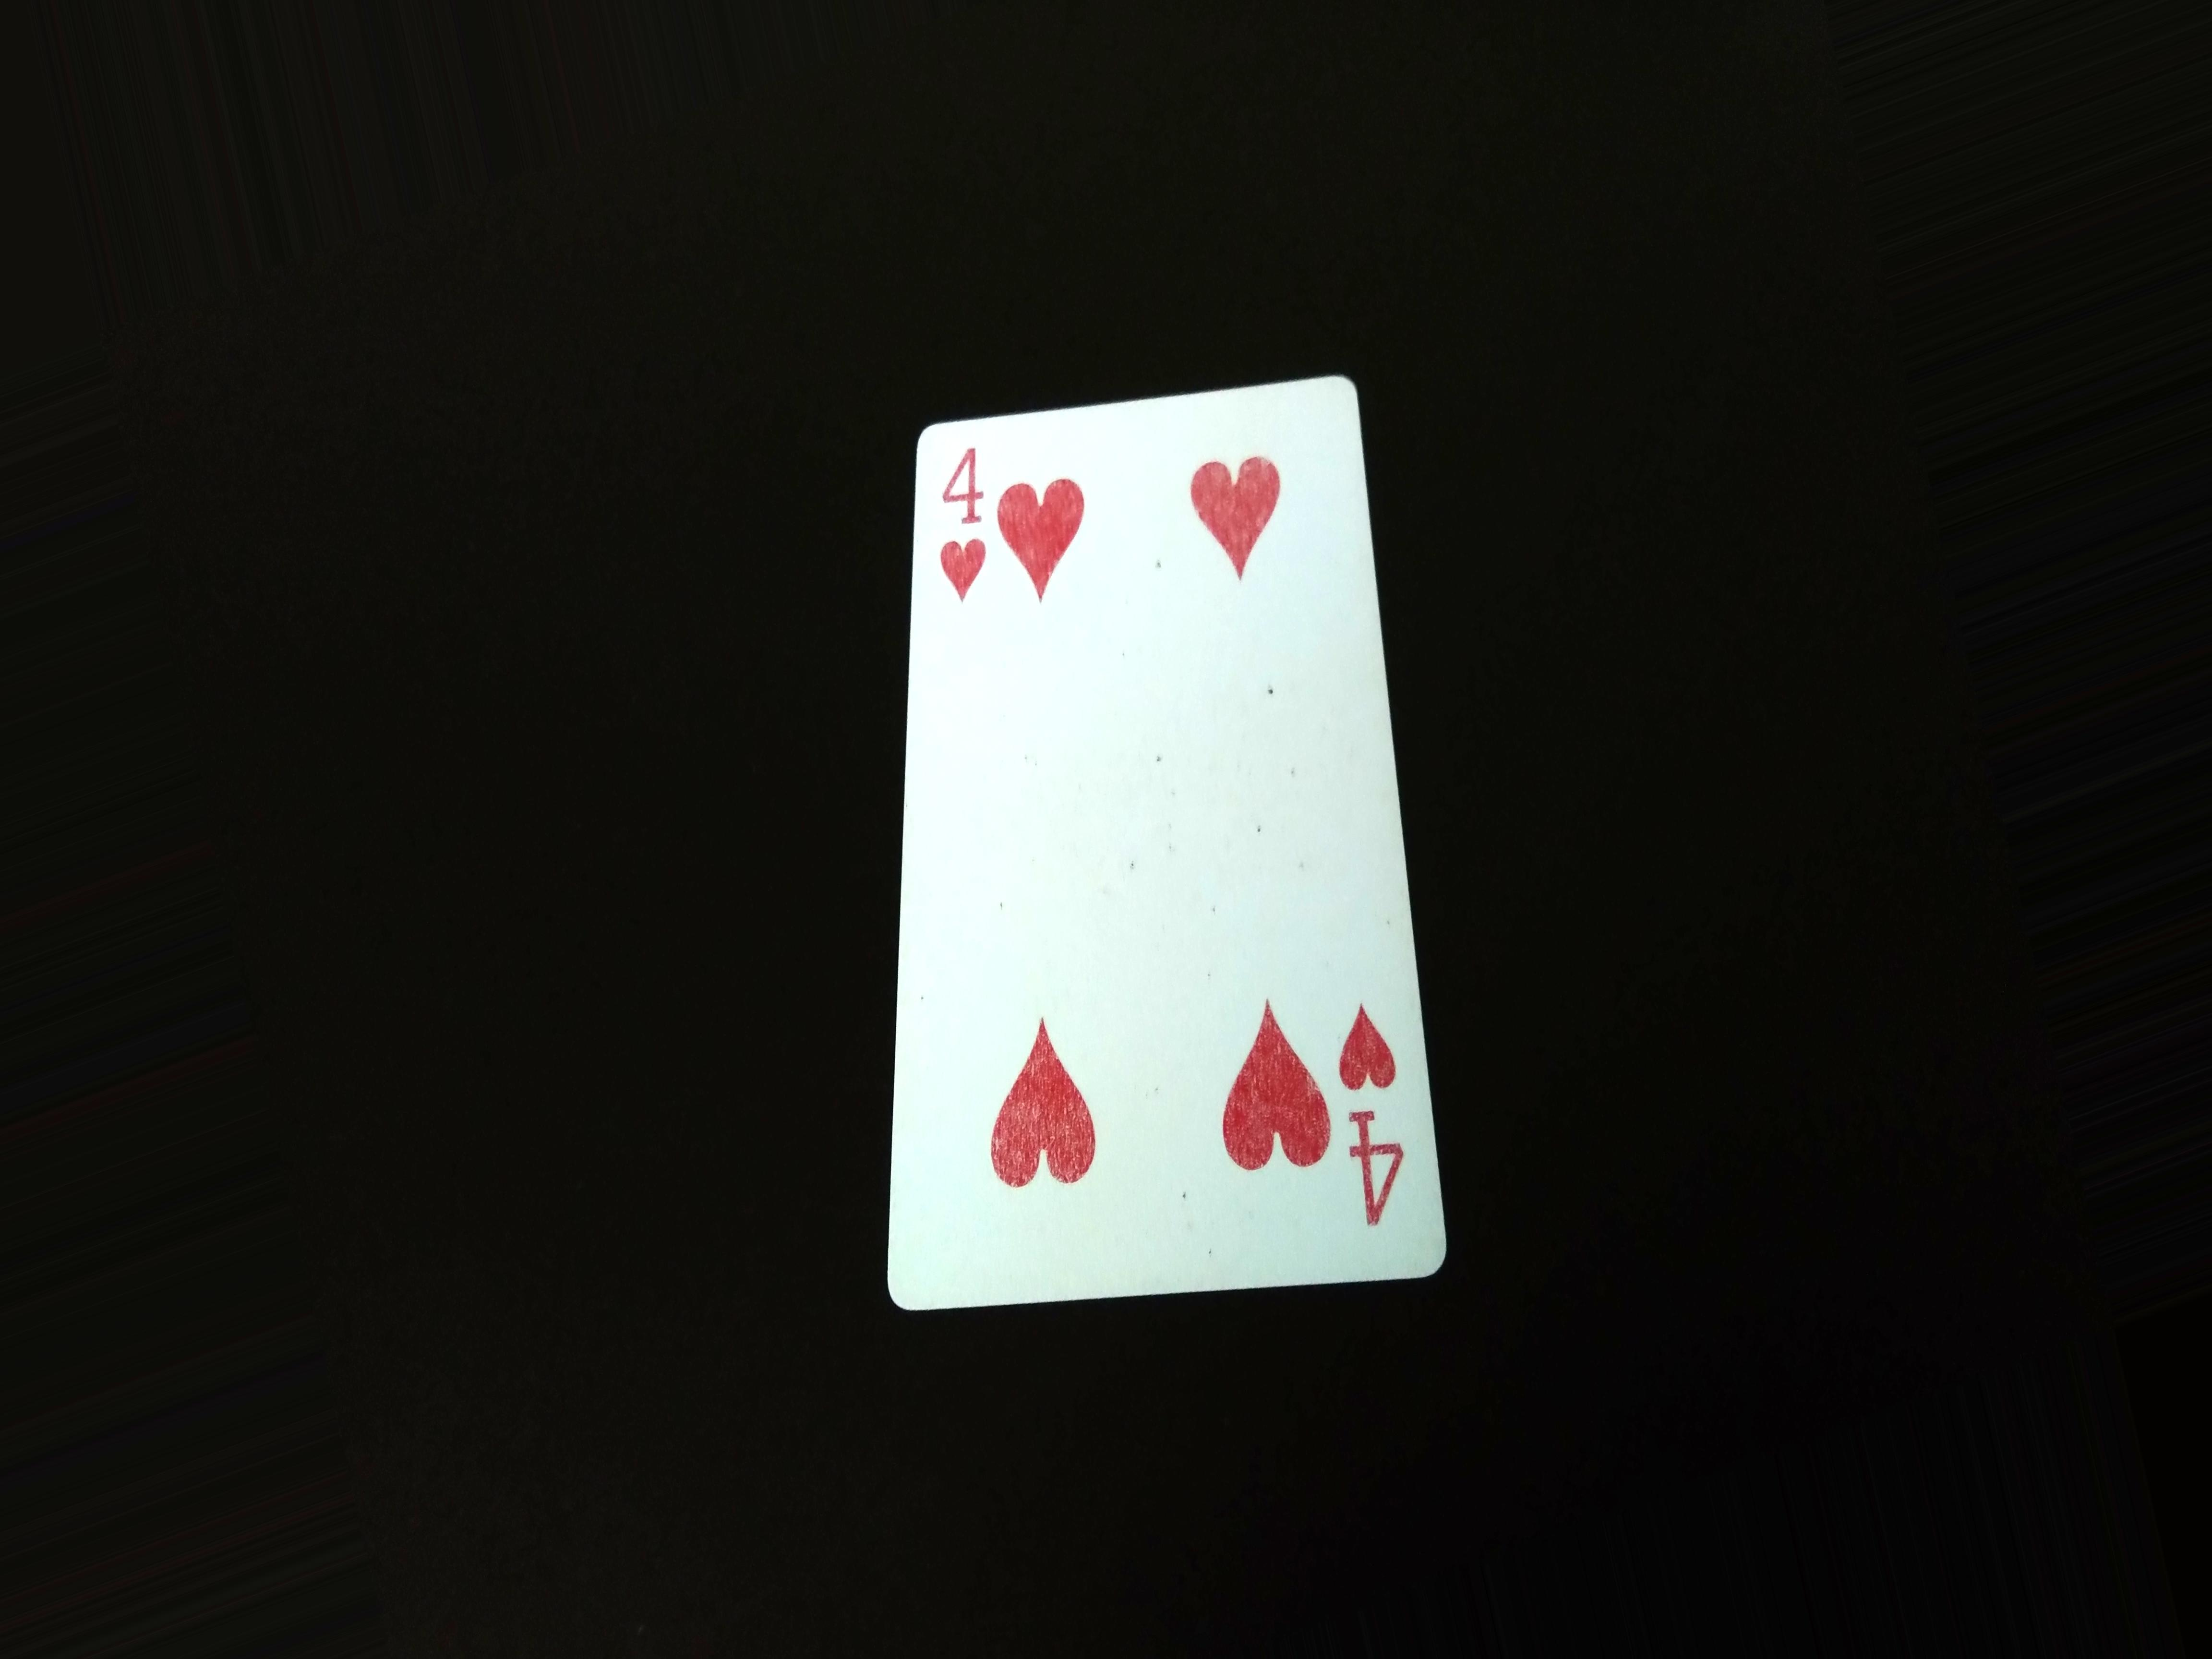4H: (939, 430, 998, 631)
